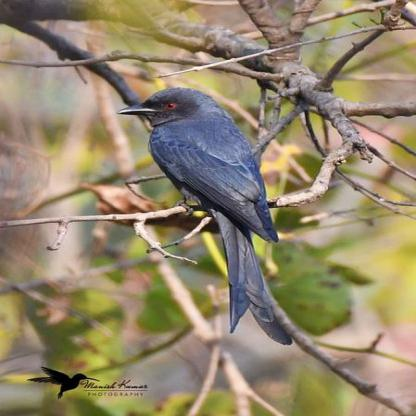Burung: (117, 89, 300, 350)
